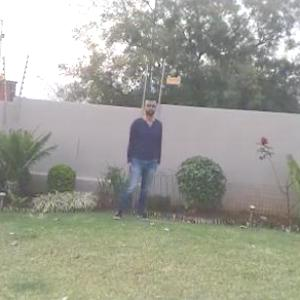follow: (120, 96, 164, 231)
